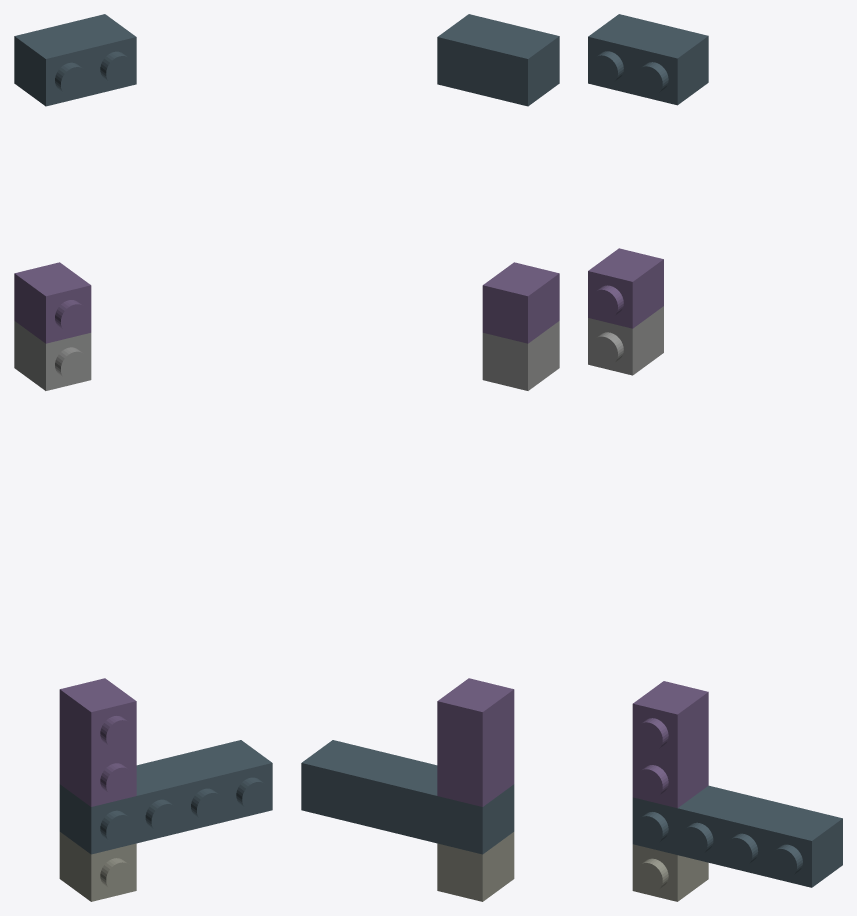
The model's file is current.glb.
3 renders of one model, left to right at view 1: azimuth 30°, elevation 25°; view 2: azimuth 150°, elevation 25°; view 3: azimuth 330°, elevation 25°, orthographic.
Visible parts, largest first — view 1: world; view 2: world; view 3: world.
Part boxes in pixels (box(x1,y1,x2,y2)): world: box(14, 14, 272, 901); world: box(301, 14, 559, 901); world: box(588, 14, 842, 901).
Bounding box in the file's own units: 40 × 144 × 11.4.
